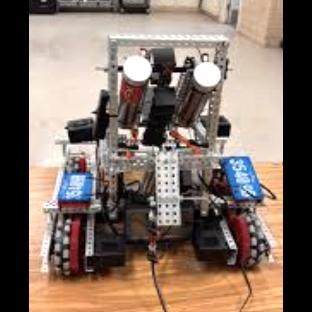Robot: (42, 35, 272, 274)
